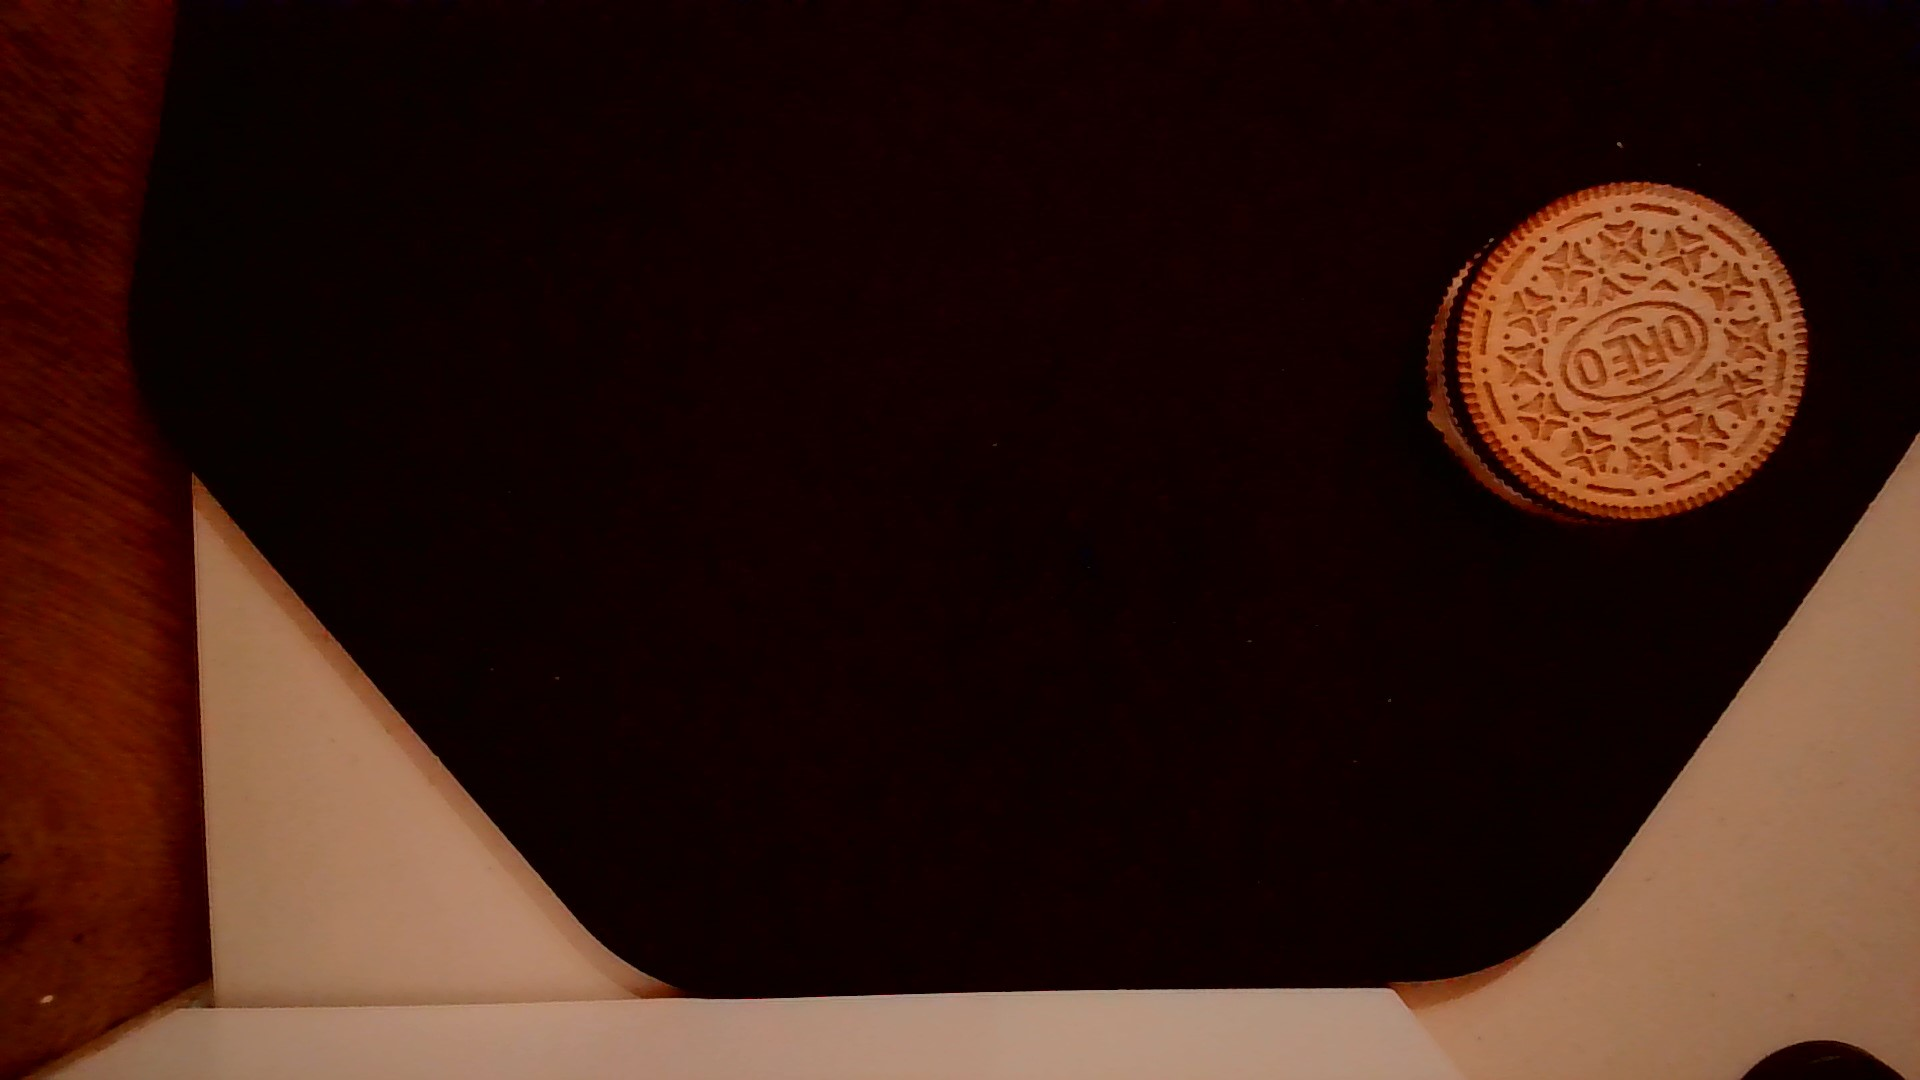Oréo: (1410, 175, 1816, 542)
